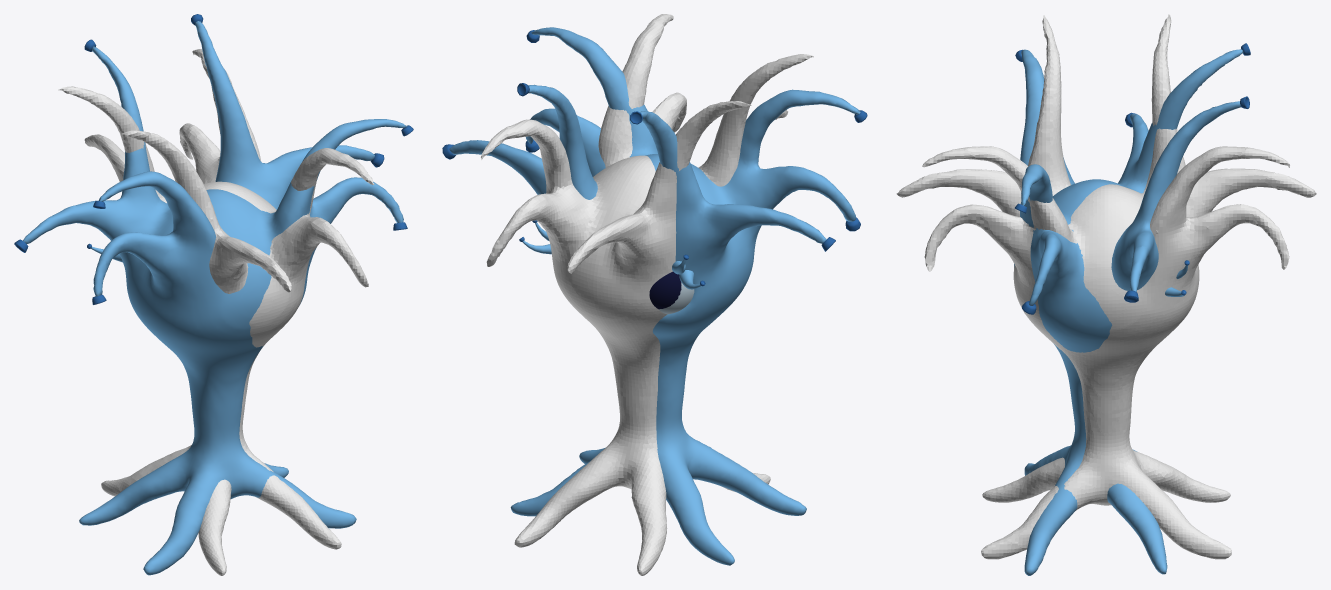
Rendered from neuron.fbx.
3 renders of one model, left to right at view 1: azimuth 30°, elevation 25°; view 2: azimuth 150°, elevation 25°; view 3: azimuth 270°, elevation 25°, orthographic. The views are drawn at different scales.
Parts seen in each view (by area): view 1: cell, Icosphere.001, ends1; view 2: Icosphere.001, cell, ends1, iris, lashes; view 3: Icosphere.001, cell, ends1.
Part boxes in pixels (x1,y1,x2,y2): cell: (23,21,407,575); Icosphere.001: (58,49,374,575); ends1: (14,14,413,304); Icosphere.001: (481,14,813,575); cell: (449,27,860,565); ends1: (442,30,867,251); iris: (649,271,681,309); lashes: (522,222,703,289); Icosphere.001: (896,14,1316,559); cell: (1014,49,1243,575); ends1: (1014,43,1250,314).
Size of the model in its own units: 333 by 324 by 388.
